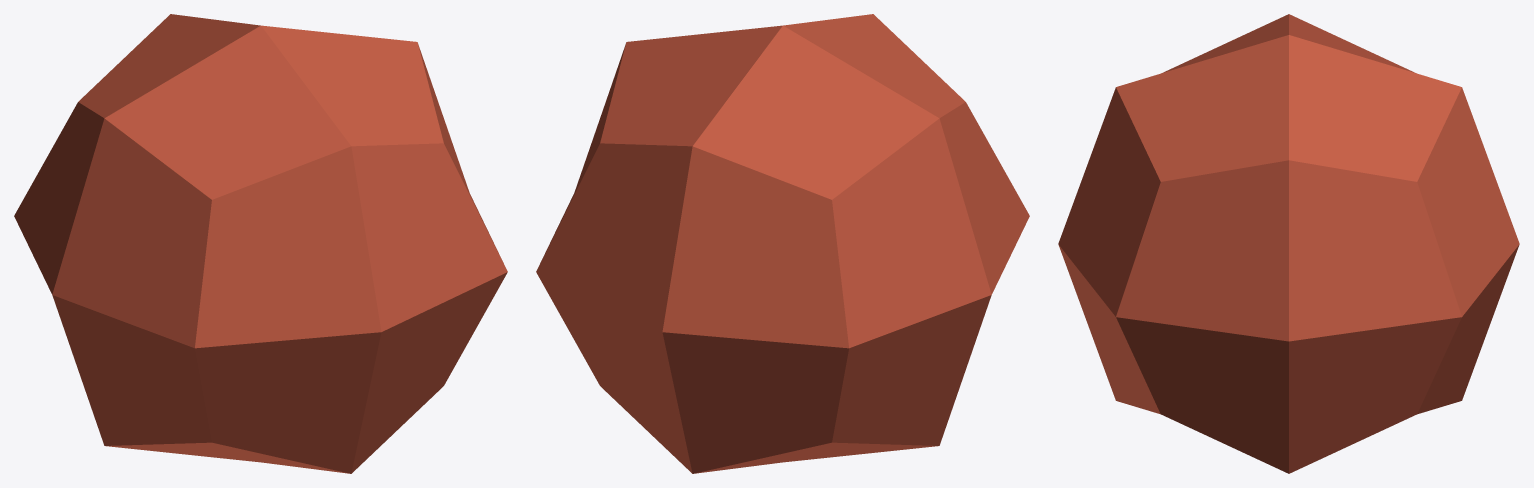
Rendered from Apple_03.fbx.
3 views of the same model, side by side, from view 1: azimuth 30°, elevation 25°; view 2: azimuth 150°, elevation 25°; view 3: azimuth 270°, elevation 25° (orthographic). The views are drawn at different scales.
Parts seen in each view (by area): view 1: Apple_03; view 2: Apple_03; view 3: Apple_03.
Boxes of the visible parts, left/top/right/bottom form: Apple_03: left=14, top=14, right=507, bottom=473; Apple_03: left=536, top=14, right=1029, bottom=473; Apple_03: left=1058, top=14, right=1519, bottom=473.
Bounding box in the file's own units: 33.21 × 33.21 × 33.21.
